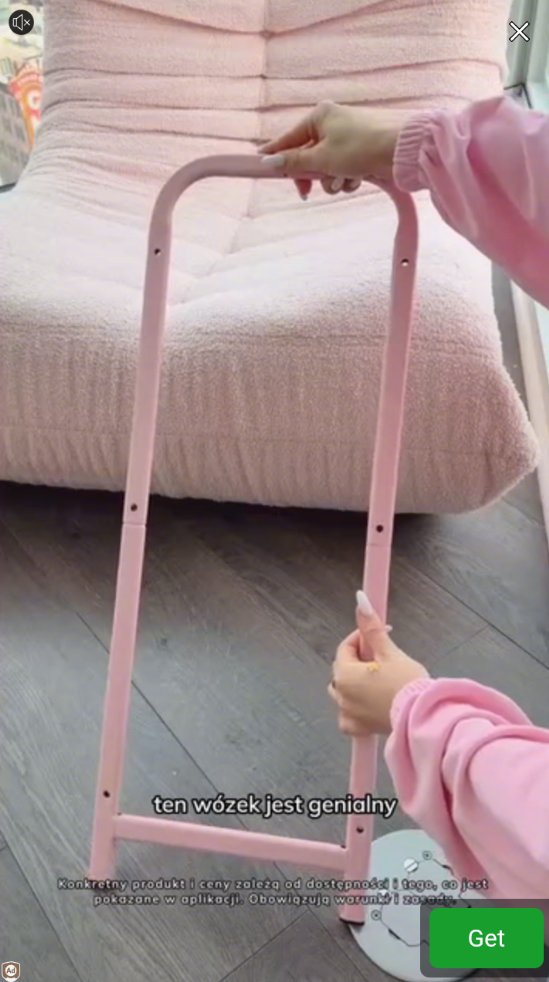close_button: (503, 14, 533, 44)
